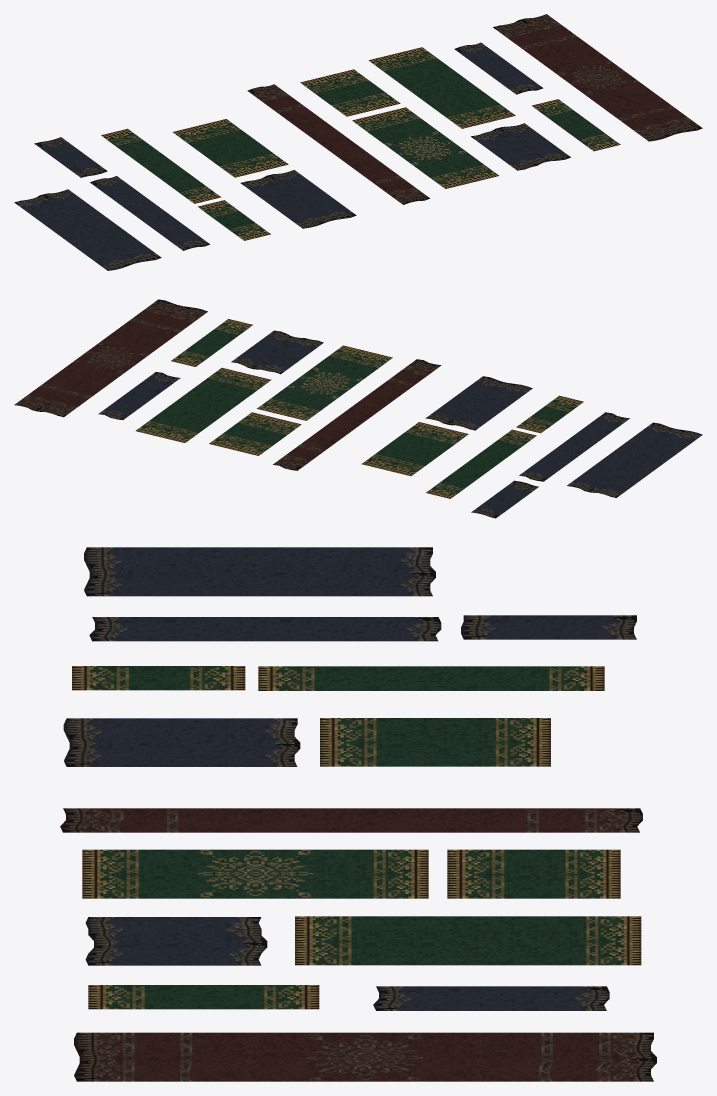
Rendered from EnvMdrMD_Mansion_GrdCpt_B_Loop_300W100D.FBX.
The picture shows the model from 3 angles, top to bottom: view 1: azimuth 30°, elevation 25°; view 2: azimuth 150°, elevation 25°; view 3: azimuth 270°, elevation 25°; orthographic projection. The views are drawn at different scales.
Visible parts, largest first — view 1: EnvMdrMD_Mansion_GrdCpt_B_Loop_1000W200D, EnvMdrMD_Mansion_GrdCpt_B_Loop_Straight_600W200D, EnvMdrMD_Mansion_GrdCpt_B_LoopDeco_Straight_600W200D, EnvMdrMD_Mansion_GrdCpt_B_Loop_600W200D, EnvMdrMD_Mansion_GrdCpt_B_Loop_1000W100D, EnvMdrMD_Mansion_GrdCpt_B_Loop_Straight_400W200D, EnvMdrMD_Mansion_GrdCpt_B_Loop_400W200D, EnvMdrMD_Mansion_GrdCpt_B_Loop_600W100D, EnvMdrMD_Mansion_GrdCpt_B_Loop_Straight_600W100D, EnvMdrMD_Mansion_GrdCpt_B_Loop_300W200D, EnvMdrMD_Mansion_GrdCpt_B_Loop_Straight_300W200D, EnvMdrMD_Mansion_GrdCpt_B_Loop_400W100D (+3 smaller); view 2: EnvMdrMD_Mansion_GrdCpt_B_Loop_1000W200D, EnvMdrMD_Mansion_GrdCpt_B_LoopDeco_Straight_600W200D, EnvMdrMD_Mansion_GrdCpt_B_Loop_Straight_600W200D, EnvMdrMD_Mansion_GrdCpt_B_Loop_600W200D, EnvMdrMD_Mansion_GrdCpt_B_Loop_1000W100D, EnvMdrMD_Mansion_GrdCpt_B_Loop_Straight_400W200D, EnvMdrMD_Mansion_GrdCpt_B_Loop_400W200D, EnvMdrMD_Mansion_GrdCpt_B_Loop_Straight_600W100D, EnvMdrMD_Mansion_GrdCpt_B_Loop_600W100D, EnvMdrMD_Mansion_GrdCpt_B_Loop_300W200D, EnvMdrMD_Mansion_GrdCpt_B_Loop_Straight_300W200D, EnvMdrMD_Mansion_GrdCpt_B_Loop_Straight_400W100D (+3 smaller); view 3: EnvMdrMD_Mansion_GrdCpt_B_Loop_1000W200D, EnvMdrMD_Mansion_GrdCpt_B_LoopDeco_Straight_600W200D, EnvMdrMD_Mansion_GrdCpt_B_Loop_Straight_600W200D, EnvMdrMD_Mansion_GrdCpt_B_Loop_600W200D, EnvMdrMD_Mansion_GrdCpt_B_Loop_1000W100D, EnvMdrMD_Mansion_GrdCpt_B_Loop_400W200D, EnvMdrMD_Mansion_GrdCpt_B_Loop_Straight_400W200D, EnvMdrMD_Mansion_GrdCpt_B_Loop_Straight_300W200D, EnvMdrMD_Mansion_GrdCpt_B_Loop_Straight_600W100D, EnvMdrMD_Mansion_GrdCpt_B_Loop_600W100D, EnvMdrMD_Mansion_GrdCpt_B_Loop_300W200D, EnvMdrMD_Mansion_GrdCpt_B_Loop_Straight_400W100D (+3 smaller).
Part boxes in pixels (<box>): EnvMdrMD_Mansion_GrdCpt_B_Loop_1000W200D: <box>493,14,702,141</box>; EnvMdrMD_Mansion_GrdCpt_B_Loop_Straight_600W200D: <box>368,47,515,128</box>; EnvMdrMD_Mansion_GrdCpt_B_LoopDeco_Straight_600W200D: <box>352,107,498,188</box>; EnvMdrMD_Mansion_GrdCpt_B_Loop_600W200D: <box>14,189,161,270</box>; EnvMdrMD_Mansion_GrdCpt_B_Loop_1000W100D: <box>247,84,429,204</box>; EnvMdrMD_Mansion_GrdCpt_B_Loop_Straight_400W200D: <box>172,119,288,177</box>; EnvMdrMD_Mansion_GrdCpt_B_Loop_400W200D: <box>240,170,356,228</box>; EnvMdrMD_Mansion_GrdCpt_B_Loop_600W100D: <box>90,176,209,250</box>; EnvMdrMD_Mansion_GrdCpt_B_Loop_Straight_600W100D: <box>101,128,220,203</box>; EnvMdrMD_Mansion_GrdCpt_B_Loop_300W200D: <box>471,123,570,170</box>; EnvMdrMD_Mansion_GrdCpt_B_Loop_Straight_300W200D: <box>300,69,400,116</box>; EnvMdrMD_Mansion_GrdCpt_B_Loop_400W100D: <box>454,42,543,94</box>; EnvMdrMD_Mansion_GrdCpt_B_Loop_1000W200D: <box>14,299,207,417</box>; EnvMdrMD_Mansion_GrdCpt_B_LoopDeco_Straight_600W200D: <box>257,345,392,420</box>; EnvMdrMD_Mansion_GrdCpt_B_Loop_Straight_600W200D: <box>136,368,271,442</box>; EnvMdrMD_Mansion_GrdCpt_B_Loop_600W200D: <box>567,422,702,497</box>; EnvMdrMD_Mansion_GrdCpt_B_Loop_1000W100D: <box>273,359,441,470</box>; EnvMdrMD_Mansion_GrdCpt_B_Loop_Straight_400W200D: <box>361,422,468,476</box>; EnvMdrMD_Mansion_GrdCpt_B_Loop_400W200D: <box>425,376,532,430</box>; EnvMdrMD_Mansion_GrdCpt_B_Loop_Straight_600W100D: <box>426,429,536,498</box>; EnvMdrMD_Mansion_GrdCpt_B_Loop_600W100D: <box>519,412,629,481</box>; EnvMdrMD_Mansion_GrdCpt_B_Loop_300W200D: <box>231,330,323,374</box>; EnvMdrMD_Mansion_GrdCpt_B_Loop_Straight_300W200D: <box>209,412,301,455</box>; EnvMdrMD_Mansion_GrdCpt_B_Loop_Straight_400W100D: <box>171,319,252,366</box>; EnvMdrMD_Mansion_GrdCpt_B_Loop_1000W200D: <box>74,1032,656,1081</box>; EnvMdrMD_Mansion_GrdCpt_B_LoopDeco_Straight_600W200D: <box>82,849,428,898</box>; EnvMdrMD_Mansion_GrdCpt_B_Loop_Straight_600W200D: <box>295,916,641,965</box>; EnvMdrMD_Mansion_GrdCpt_B_Loop_600W200D: <box>84,547,435,596</box>; EnvMdrMD_Mansion_GrdCpt_B_Loop_1000W100D: <box>60,808,642,832</box>; EnvMdrMD_Mansion_GrdCpt_B_Loop_400W200D: <box>63,718,300,766</box>; EnvMdrMD_Mansion_GrdCpt_B_Loop_Straight_400W200D: <box>320,718,550,766</box>; EnvMdrMD_Mansion_GrdCpt_B_Loop_Straight_300W200D: <box>447,849,620,898</box>; EnvMdrMD_Mansion_GrdCpt_B_Loop_Straight_600W100D: <box>258,666,604,690</box>; EnvMdrMD_Mansion_GrdCpt_B_Loop_600W100D: <box>89,617,441,641</box>; EnvMdrMD_Mansion_GrdCpt_B_Loop_300W200D: <box>85,917,267,965</box>; EnvMdrMD_Mansion_GrdCpt_B_Loop_Straight_400W100D: <box>88,985,319,1009</box>.
Bounding box in the file's own units: 2189 × 2 × 1034.
3 materials, 3 textured.
